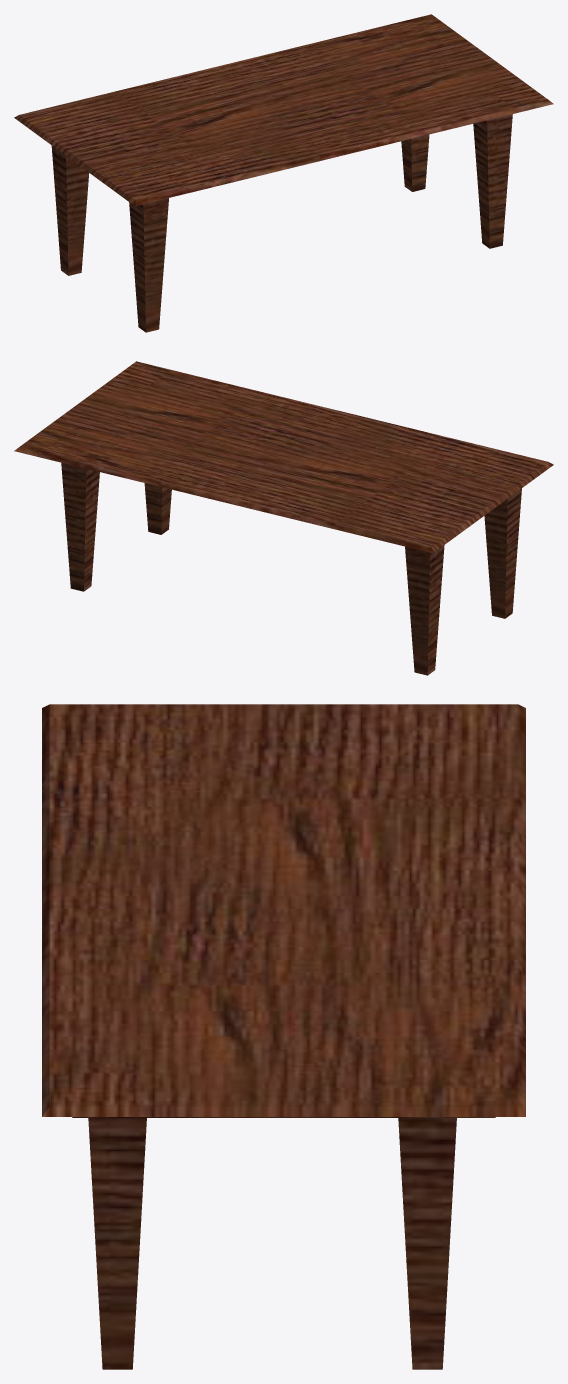
The model's file is desk.obj.
3 views of the same model, one above another, from view 1: azimuth 30°, elevation 25°; view 2: azimuth 150°, elevation 25°; view 3: azimuth 270°, elevation 25° (orthographic). The views are drawn at different scales.
Visible parts, largest first — view 1: entity0_brush1, entity0_brush4, entity0_brush2, entity0_brush5, entity0_brush3; view 2: entity0_brush1, entity0_brush5, entity0_brush3, entity0_brush4, entity0_brush2; view 3: entity0_brush1, entity0_brush2, entity0_brush3.
Boxes of the visible parts, left/top/right/bottom form: entity0_brush1: left=14, top=14, right=553, bottom=206; entity0_brush4: left=129, top=198, right=168, bottom=332; entity0_brush2: left=473, top=114, right=512, bottom=248; entity0_brush5: left=51, top=145, right=89, bottom=275; entity0_brush3: left=401, top=134, right=429, bottom=191; entity0_brush1: left=14, top=361, right=553, bottom=553; entity0_brush5: left=405, top=545, right=444, bottom=675; entity0_brush3: left=61, top=462, right=99, bottom=591; entity0_brush4: left=484, top=488, right=521, bottom=618; entity0_brush2: left=144, top=483, right=171, bottom=534; entity0_brush1: left=42, top=704, right=525, bottom=1116; entity0_brush2: left=88, top=1118, right=146, bottom=1369; entity0_brush3: left=398, top=1118, right=456, bottom=1369.
Size of the model in its own units: 128 by 43 by 64.
